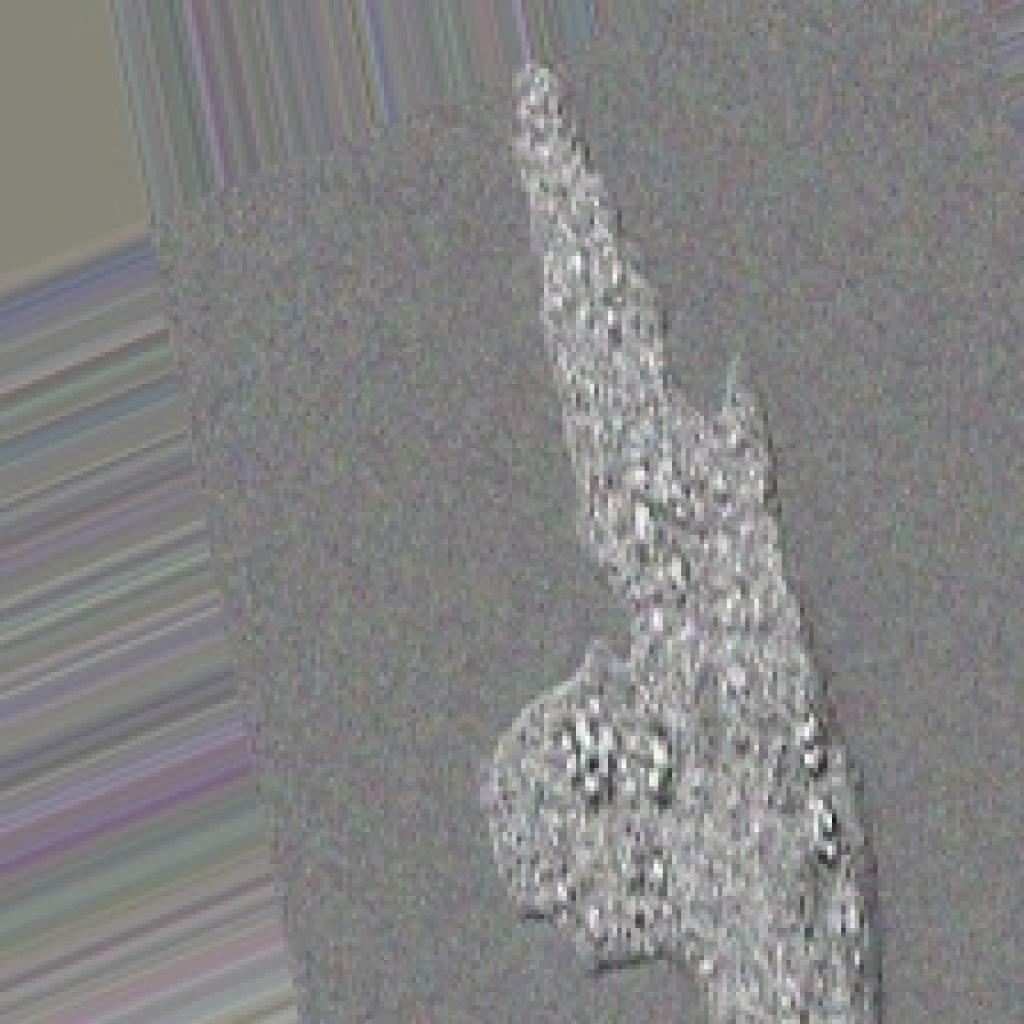Amoeba: (416, 50, 904, 1024)
